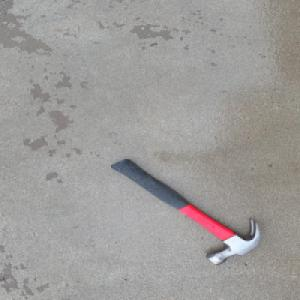Hammer: (105, 156, 258, 263)
